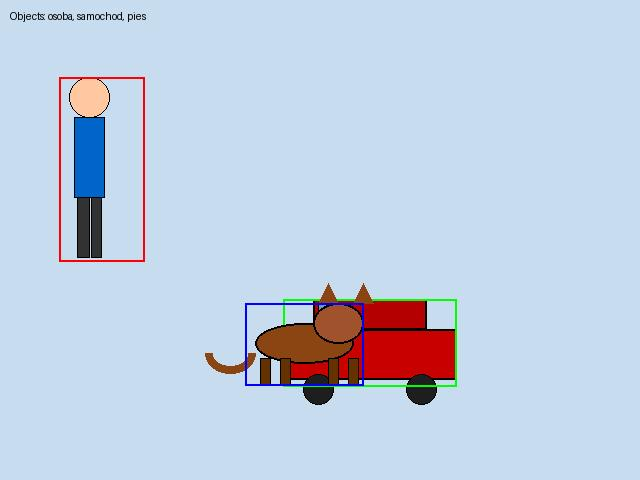osoba: (59, 77, 144, 261)
pies: (245, 303, 363, 385)
samochod: (283, 299, 456, 386)
